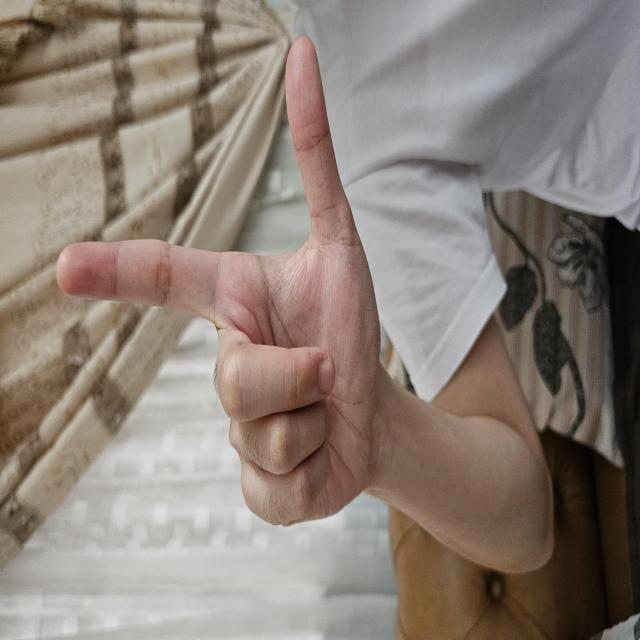L: (111, 54, 607, 383)
